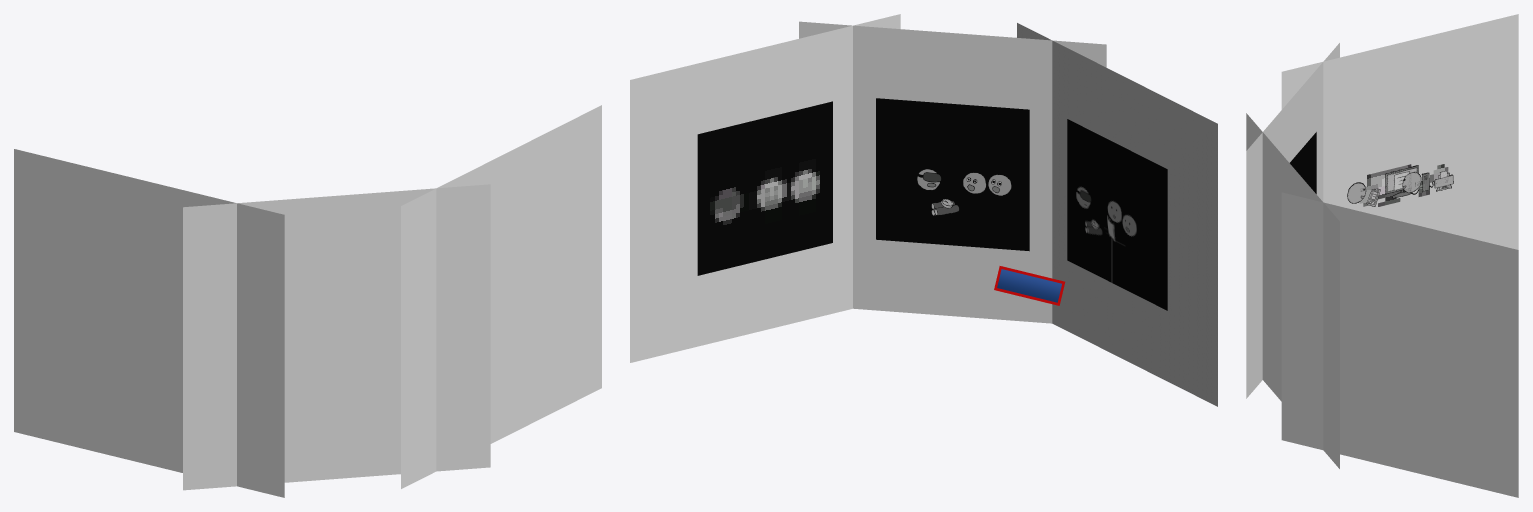
Rendered from LearnMoreScreen.fbx.
3 renders of one model, left to right at view 1: azimuth 30°, elevation 25°; view 2: azimuth 150°, elevation 25°; view 3: azimuth 270°, elevation 25°, orthographic. The views are drawn at different scales.
Visible parts, largest first — view 1: BGGlow (×3); view 2: BGGlow (×3), Slide (×2), SlidePS4, Quad; view 3: BGGlow (×4), SlidePC, SlidePS4, Slide.
Part boxes in pixels (x1,y1,x2,y2): BGGlow (×3): (14,105,601,497); BGGlow (×3): (630,14,1217,406); Slide (×2): (876,98,1167,310); SlidePS4: (697,101,832,275); Quad: (997,269,1061,302); BGGlow (×4): (1246,14,1518,497); SlidePC: (1347,165,1453,206); SlidePS4: (1359,164,1448,206); Slide: (1290,132,1316,193).
Size of the model in its own units: 14.88 by 7.28 by 7.25.
11 materials, 10 textured.
